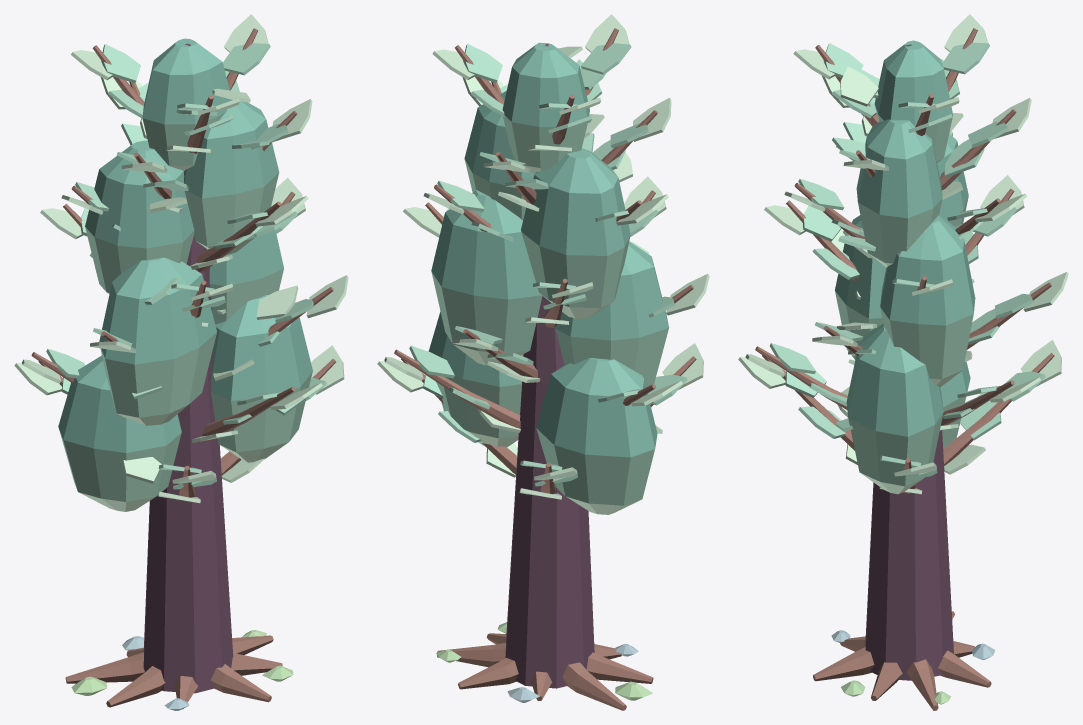
The model's file is lagoon_tree_black_cottonwood.glb.
The picture shows the model from 3 angles, left to right: view 1: azimuth 30°, elevation 25°; view 2: azimuth 150°, elevation 25°; view 3: azimuth 270°, elevation 25°; orthographic projection.
Visible parts, largest first — view 1: lagoon_tree_black_cottonwood.001; view 2: lagoon_tree_black_cottonwood.001; view 3: lagoon_tree_black_cottonwood.001.
Boxes of the visible parts, x1=… form: lagoon_tree_black_cottonwood.001: x1=14, y1=14, x2=348, y2=710; lagoon_tree_black_cottonwood.001: x1=377, y1=14, x2=709, y2=710; lagoon_tree_black_cottonwood.001: x1=738, y1=14, x2=1068, y2=710.
Size of the model in its own units: 4.94 by 9.63 by 4.65.
